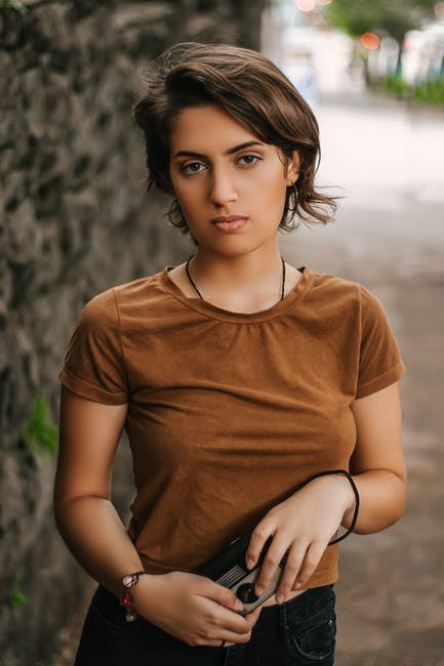face: (168, 109, 286, 254)
